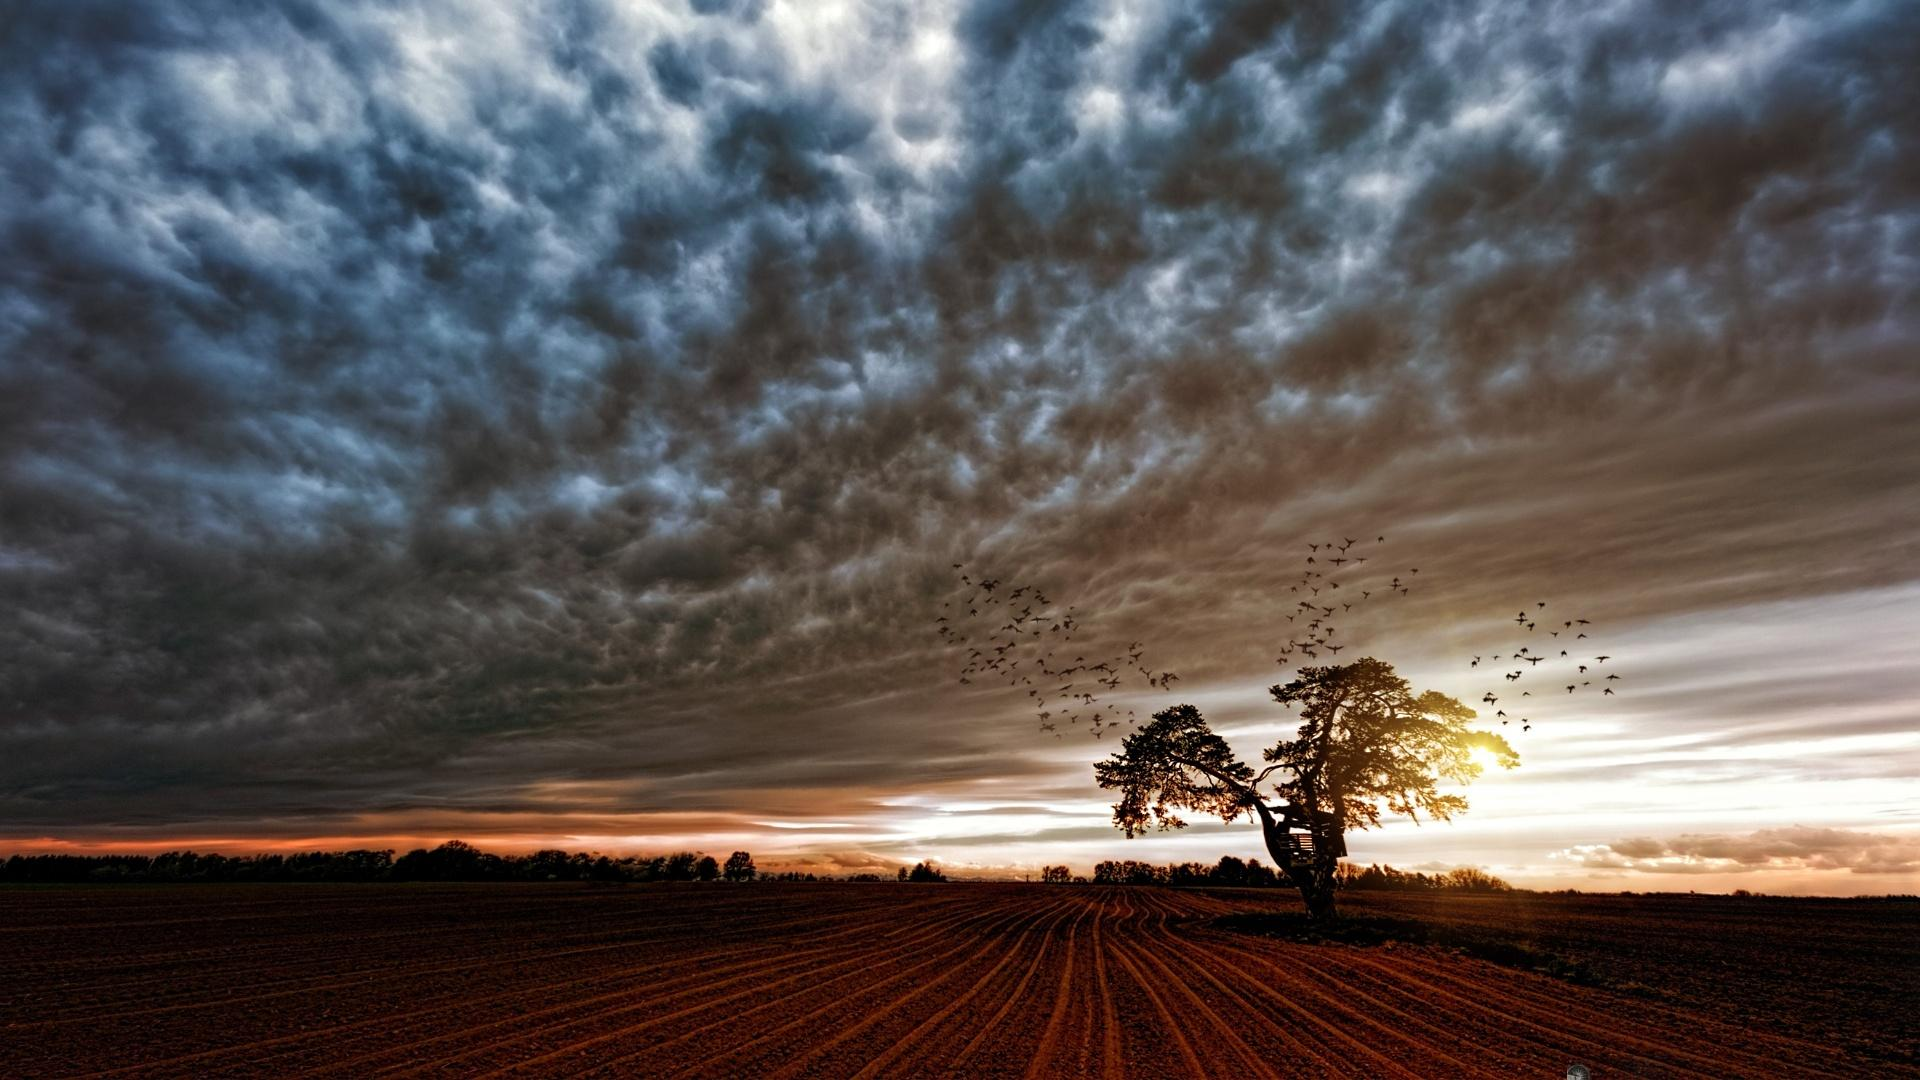paper: (1567, 858, 1920, 1080)
